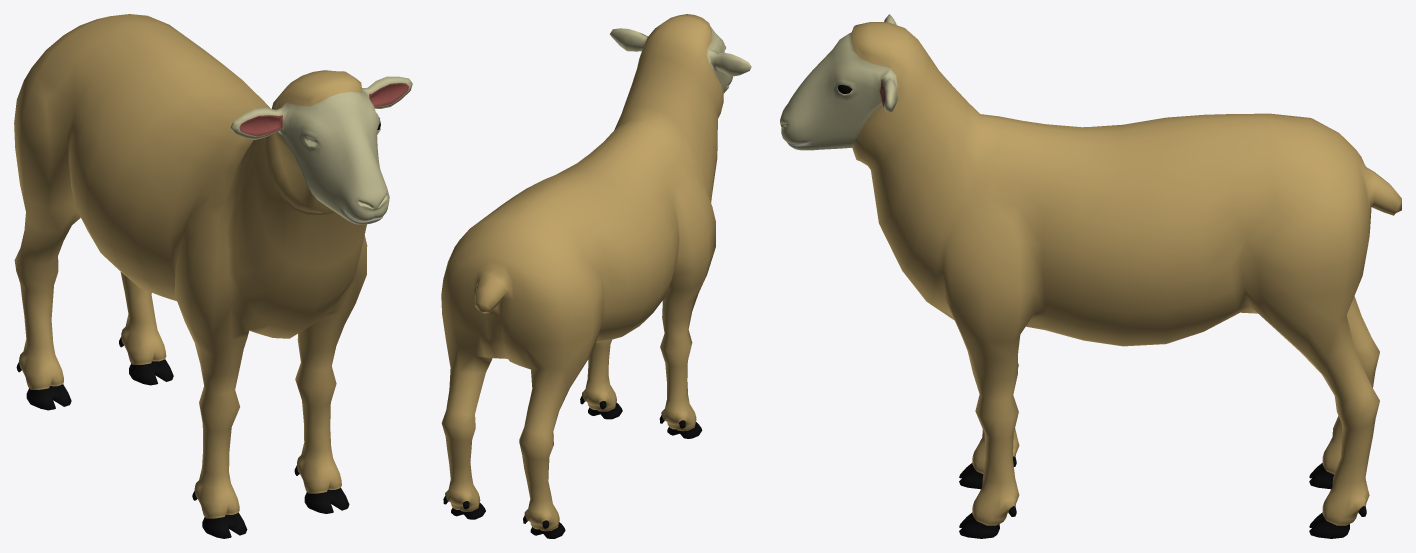
File: sheep.obj
3 renders of one model, left to right at view 1: azimuth 30°, elevation 25°; view 2: azimuth 150°, elevation 25°; view 3: azimuth 270°, elevation 25°, orthographic. The views are drawn at different scales.
Visible parts, largest first — view 1: sheep; view 2: sheep; view 3: sheep.
Boxes of the visible parts, x1,y1,x2,y2 form: sheep: (14, 14, 412, 538); sheep: (441, 14, 751, 538); sheep: (780, 14, 1401, 538).
Size of the model in its own units: 0.4925 by 1.17 by 1.38.
